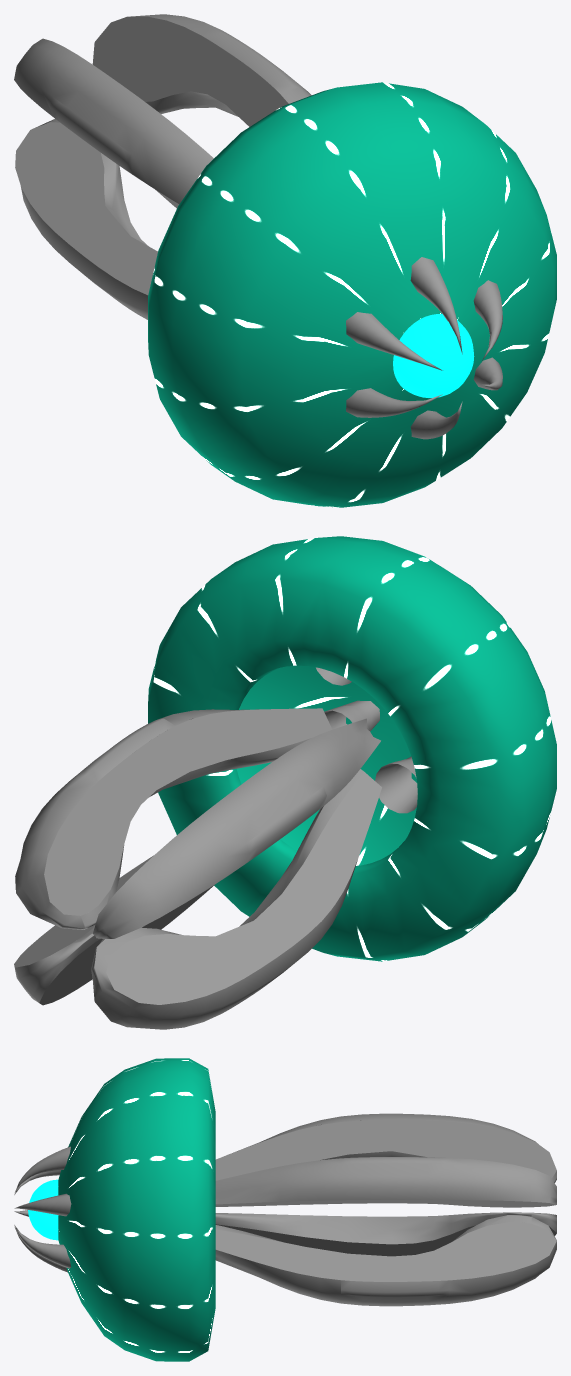
The model's file is alien_medium.fbx.
3 views of the same model, one above another, from view 1: azimuth 30°, elevation 25°; view 2: azimuth 150°, elevation 25°; view 3: azimuth 270°, elevation 25° (orthographic). The views are drawn at different scales.
Parts seen in each view (by area): view 1: body, tentacle3, tentacle1, tentacle2, beam, claw2, claw1, claw3, claw6, claw4, claw5; view 2: body, tentacle3, tentacle1, tentacle2, tentacle4, claw4, claw5; view 3: body, tentacle4, tentacle1, tentacle2, tentacle3, beam, claw5, claw6, claw1.
Boxes of the visible parts, x1,y1,x2,y2 form: body: [148, 82, 556, 507]; tentacle3: [15, 119, 157, 319]; tentacle1: [92, 14, 311, 126]; tentacle2: [14, 38, 213, 204]; beam: [393, 314, 474, 397]; claw2: [346, 312, 442, 370]; claw1: [410, 257, 462, 354]; claw3: [346, 388, 442, 417]; claw6: [473, 280, 502, 360]; claw4: [410, 401, 462, 439]; claw5: [473, 357, 502, 390]; body: [148, 536, 556, 961]; tentacle3: [91, 769, 381, 1029]; tentacle1: [15, 708, 332, 929]; tentacle2: [93, 718, 380, 938]; tentacle4: [14, 855, 214, 1005]; claw4: [375, 756, 417, 813]; claw5: [324, 700, 379, 731]; body: [58, 1058, 215, 1361]; tentacle4: [215, 1215, 556, 1306]; tentacle1: [215, 1157, 556, 1207]; tentacle2: [215, 1113, 556, 1182]; tentacle3: [215, 1212, 556, 1256]; beam: [28, 1179, 58, 1240]; claw5: [14, 1225, 71, 1268]; claw6: [14, 1193, 71, 1216]; claw1: [14, 1146, 70, 1193].
Bounding box in the file's own units: 9.95 × 10.03 × 17.89.
